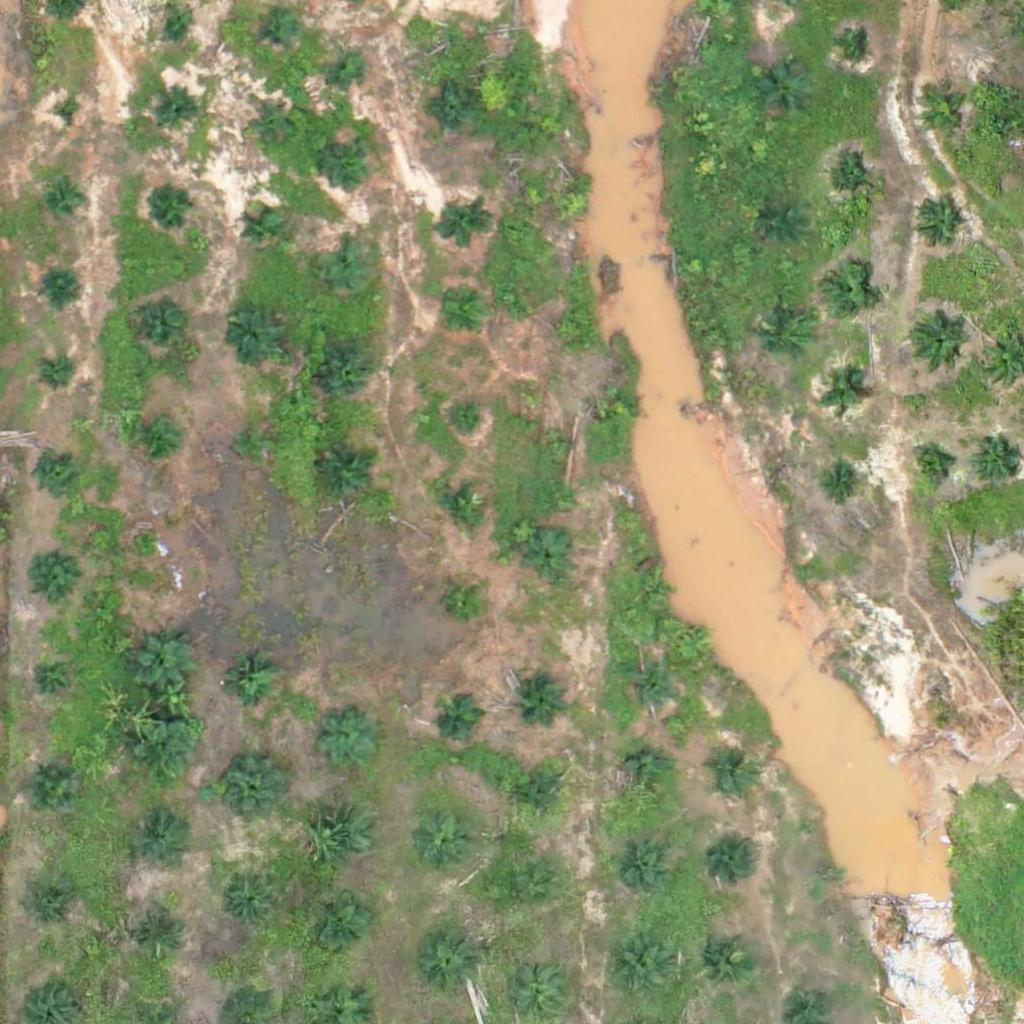Kelapa_Sawit: (495, 863, 558, 926), (610, 839, 673, 902), (220, 303, 283, 366), (218, 656, 281, 719), (222, 756, 285, 819), (317, 239, 380, 302), (608, 936, 671, 999), (132, 632, 195, 695), (306, 895, 368, 958), (417, 810, 479, 873), (316, 708, 378, 771), (416, 931, 478, 994), (695, 927, 757, 990), (134, 721, 196, 784), (312, 808, 374, 871), (909, 310, 971, 373), (324, 346, 374, 397), (323, 449, 373, 500), (29, 551, 79, 602), (434, 481, 484, 532), (918, 87, 968, 138), (136, 300, 186, 351), (148, 181, 198, 232), (325, 137, 375, 187), (29, 889, 79, 939), (131, 821, 181, 871), (139, 914, 189, 964), (222, 877, 272, 927), (25, 761, 75, 811), (711, 838, 761, 888), (518, 669, 568, 719), (436, 694, 486, 744), (625, 664, 675, 714), (524, 533, 574, 583), (621, 749, 671, 799), (707, 748, 757, 798), (515, 773, 565, 823), (29, 653, 79, 703), (826, 158, 876, 208), (824, 267, 874, 317), (913, 200, 963, 250), (973, 436, 1023, 486), (438, 201, 488, 251), (436, 291, 486, 341), (760, 66, 810, 116), (429, 86, 479, 136), (762, 317, 812, 367), (633, 571, 671, 609), (445, 582, 483, 620), (823, 372, 861, 410), (824, 463, 862, 501), (911, 446, 949, 484), (537, 423, 575, 461), (547, 310, 585, 348), (553, 185, 591, 223), (45, 275, 83, 313), (39, 355, 77, 393), (163, 3, 201, 41), (331, 45, 369, 83), (139, 419, 177, 457), (601, 385, 638, 423), (764, 205, 801, 243), (50, 100, 88, 137), (47, 184, 85, 221), (159, 87, 197, 124), (264, 12, 301, 50), (254, 108, 291, 146), (235, 425, 272, 463), (36, 451, 73, 489), (447, 404, 484, 441), (245, 212, 282, 249), (843, 34, 868, 59)
